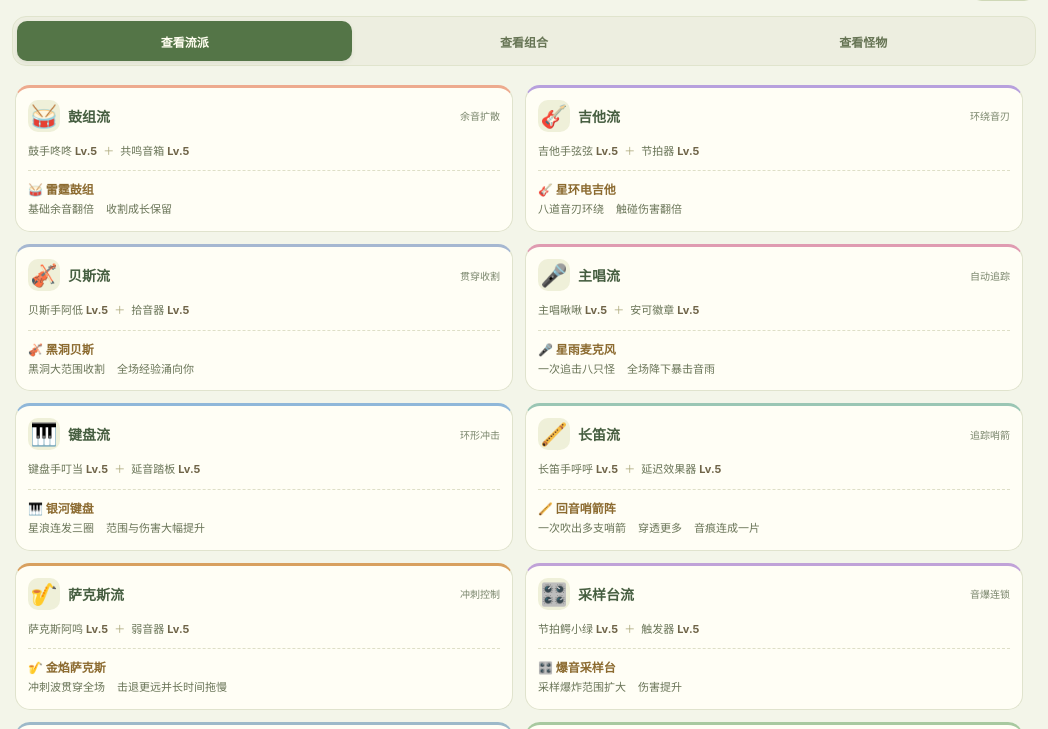
Test: shows every monster attack and its actual first and repeat appearance times
Click the tab "查看怪物". click: (863, 41)
box: [696,21,1031,61]
(page scrolled)
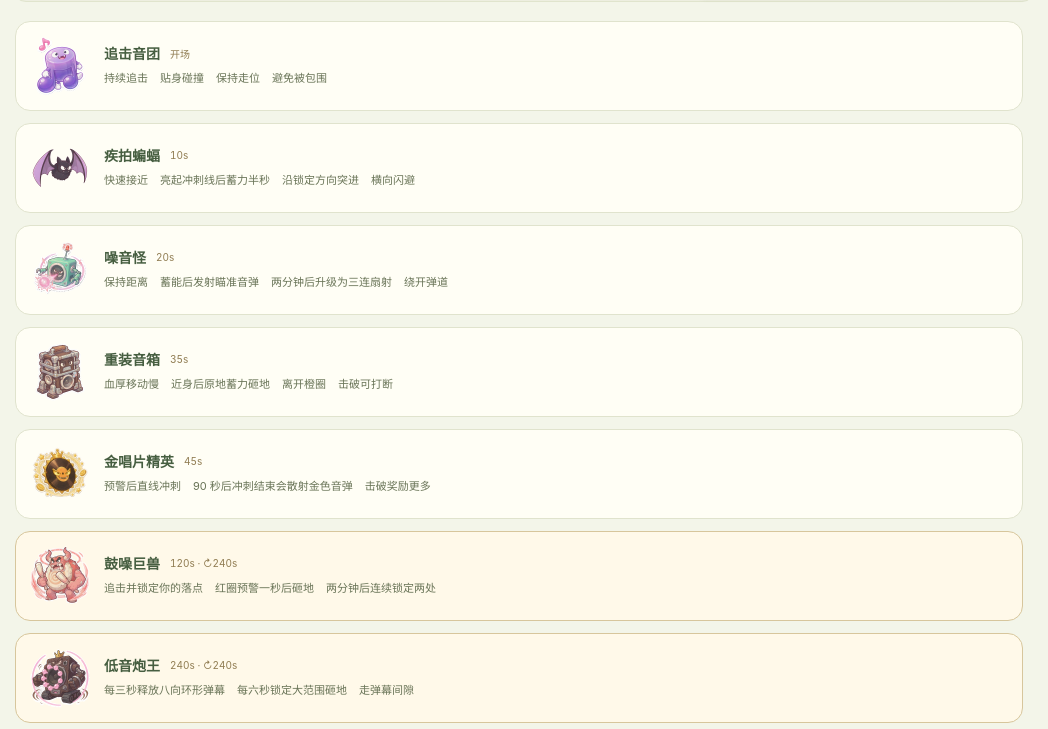
Result: the element "追击音团" shows "持续追击" at [104,71,148,85]
Result: the element "追击音团" shows "贴身碰撞" at [160,71,204,85]
Result: the element "追击音团" shows "保持走位" at [216,71,260,85]
